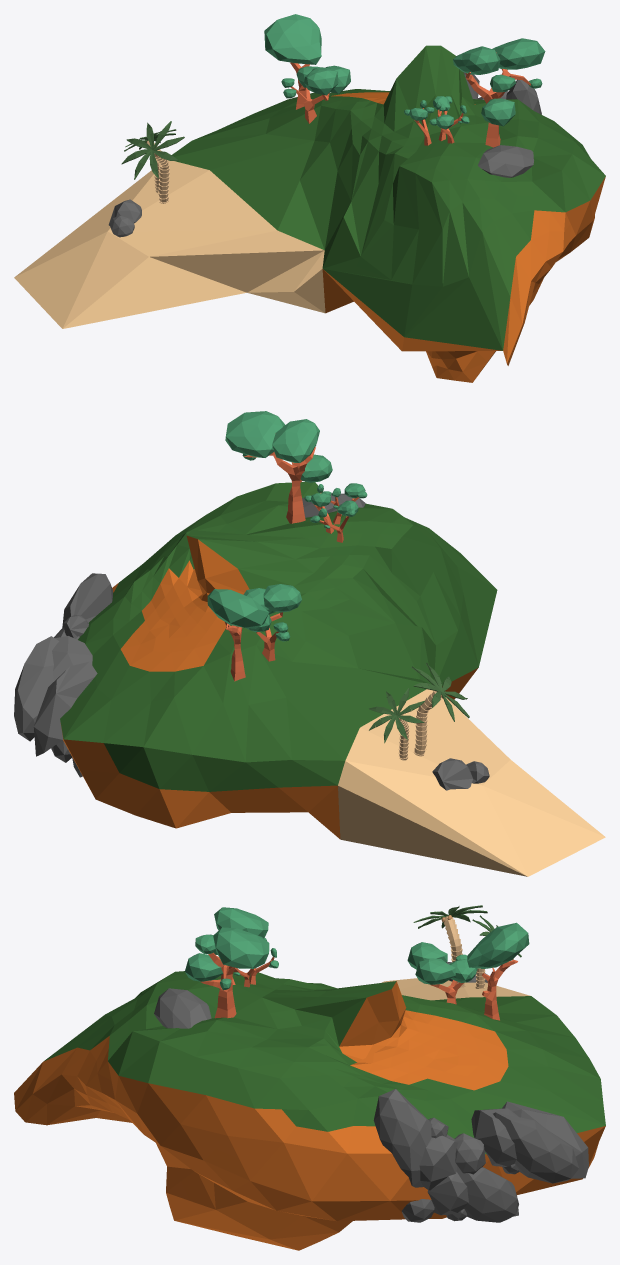
File: Islas5.fbx
The picture shows the model from 3 angles, top to bottom: view 1: azimuth 30°, elevation 25°; view 2: azimuth 150°, elevation 25°; view 3: azimuth 270°, elevation 25°; orthographic projection. The views are drawn at different scales.
Parts seen in each view (by area): view 1: Icosphere.003; view 2: Icosphere.003; view 3: Icosphere.003.
Boxes of the visible parts, x1,y1,x2,y2 form: Icosphere.003: [14, 14, 605, 382]; Icosphere.003: [14, 411, 605, 876]; Icosphere.003: [14, 905, 605, 1250].
Bounding box in the file's own units: 1403 × 873 × 1352.
